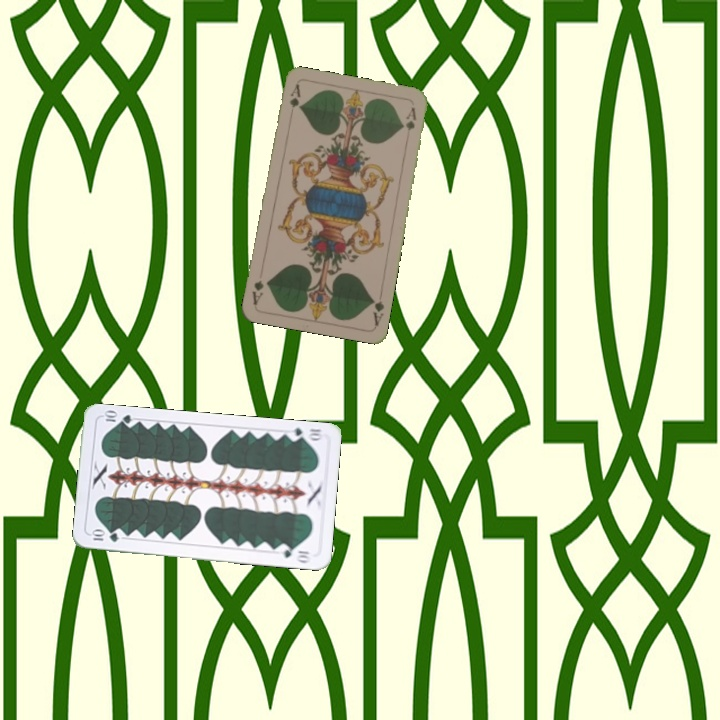G10: (284, 424, 325, 444), (88, 527, 121, 544)
GA: (368, 294, 387, 328), (286, 81, 303, 110)
